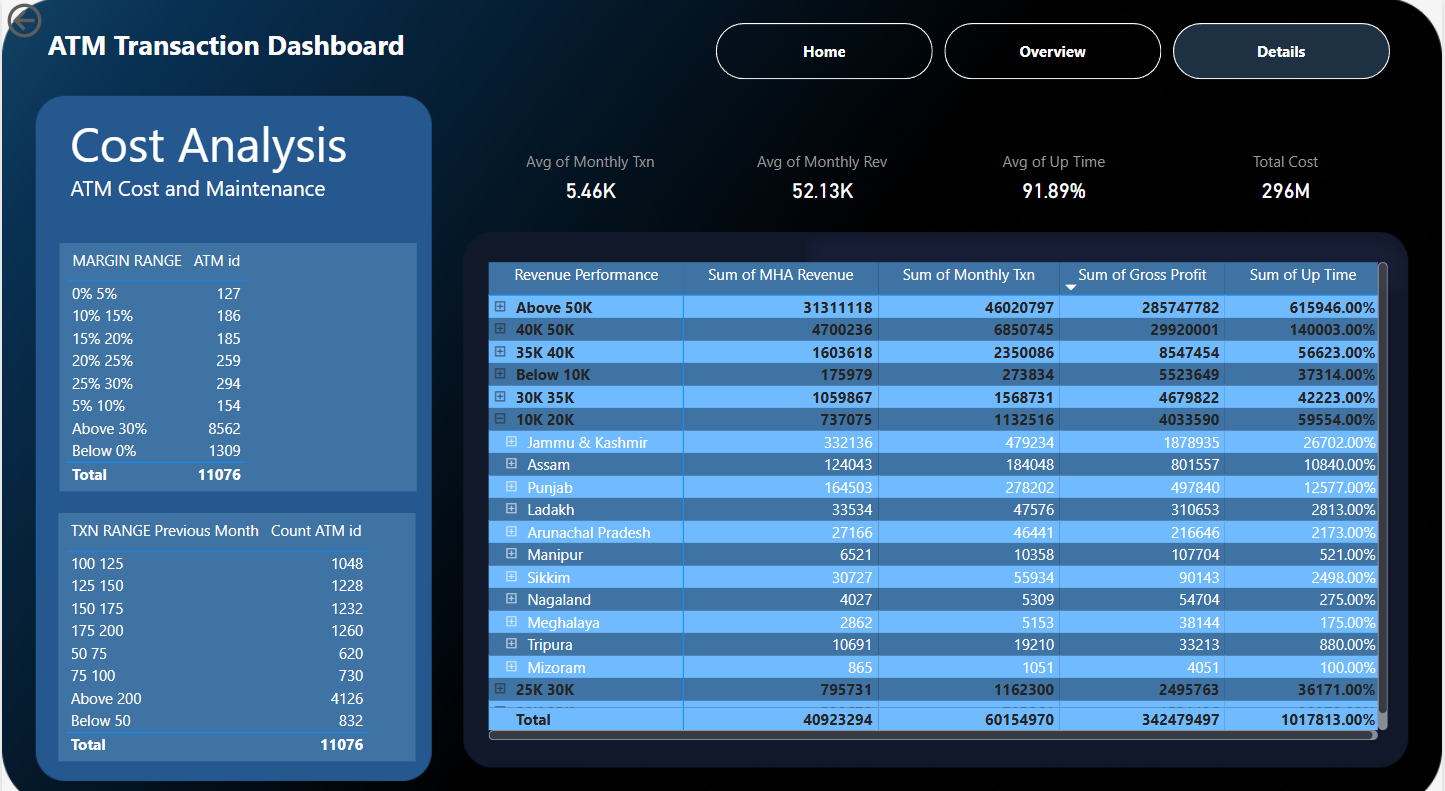

Layout of this report page (visuals, bound fields, positions):
{"tool":"powerbi","page":{"name":"Details","canvas":[1280,720],"ordinal":2},"visuals":[{"type":"tableEx","fields":{"Values":["Dataset.MARGIN RANGE Current Month","Dataset.ATM id"]},"box":[51.2,217.4,317.4,220.9],"z":0},{"type":"tableEx","fields":{"Values":["Dataset.TXN RANGE Previous Month","Dataset.ATM id"]},"box":[50,458.1,317.4,220.9],"z":1000},{"type":"actionButton","box":[0,0,100,40],"z":2000},{"type":"textbox","box":[55.8,94.2,301.2,110.5],"z":3000},{"type":"textbox","box":[36,19.8,331.4,64],"z":4000},{"type":"pivotTable","fields":{"Rows":["Dataset.Revenue Performance","Dataset.STATE","Dataset.ATM id"],"Values":["Sum(Dataset.MHA Revenue)","Sum(Dataset.Monthly Txn)","Sum(Dataset. Gross Profit )","Sum(Dataset.Up Time)"]},"box":[427.9,230.2,809.3,434.9],"z":5000},{"type":"cardVisual","fields":{"Data":["Avg(Dataset.Monthly Txn)","Avg(Dataset.Monthly Rev)","Avg(Dataset.Up Time)","Sum(Dataset. Total Cost  )"]},"box":[418.6,118.6,826.7,75.6],"z":6000},{"type":"pageNavigator","box":[634.9,22.1,600,50],"z":7000}]}

Visuals, with their boxes in screenshot pixels (x1, y1, x2, y2), scaled from the page's 1280x720 canvas onto the 1445x791 screenshot:
tableEx - Dataset.MARGIN RANGE Current Month x Dataset.ATM id: l=58, t=239, r=416, b=482
tableEx - Dataset.TXN RANGE Previous Month x Dataset.ATM id: l=56, t=503, r=415, b=746
actionButton: l=0, t=0, r=113, b=44
textbox: l=63, t=103, r=403, b=225
textbox: l=41, t=22, r=415, b=92
pivotTable - Dataset.Revenue Performance x Dataset.STATE: l=483, t=253, r=1397, b=731
cardVisual - Avg(Dataset.Monthly Txn) x Avg(Dataset.Monthly Rev): l=473, t=130, r=1406, b=213
pageNavigator: l=717, t=24, r=1394, b=79
